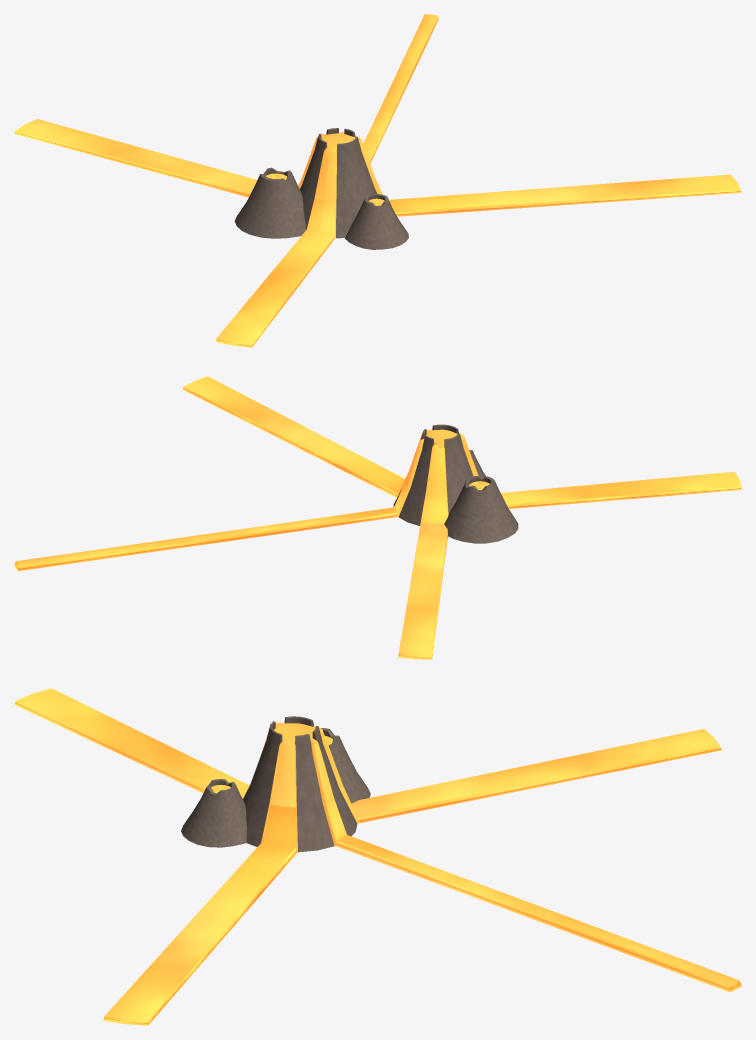
Rendered from vulcano 4.fbx.
3 views of the same model, one above another, from view 1: azimuth 30°, elevation 25°; view 2: azimuth 150°, elevation 25°; view 3: azimuth 270°, elevation 25° (orthographic). The views are drawn at different scales.
Parts seen in each view (by area): view 1: pCone14; view 2: pCone14; view 3: pCone14.
Boxes of the visible parts, <box> form: pCone14: <box>14,14,741,347</box>; pCone14: <box>14,376,741,659</box>; pCone14: <box>14,688,741,1025</box>.
Size of the model in its own units: 38.7 by 5.43 by 35.64.
